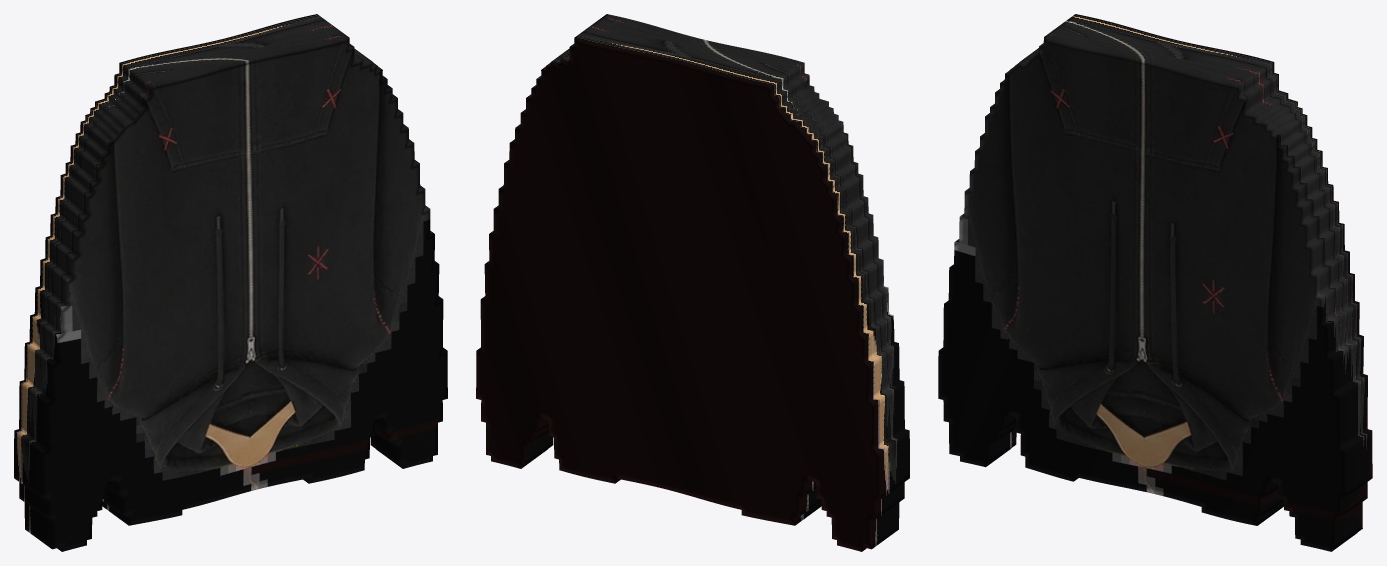
The model's file is offcut-zip-hoodie.glb.
3 renders of one model, left to right at view 1: azimuth 30°, elevation 25°; view 2: azimuth 150°, elevation 25°; view 3: azimuth 330°, elevation 25°, orthographic.
Parts seen in each view (by area): view 1: offcut-zip-hoodie; view 2: offcut-zip-hoodie; view 3: offcut-zip-hoodie.
Boxes of the visible parts, bbox=[...] form: offcut-zip-hoodie: bbox=[14, 14, 447, 551]; offcut-zip-hoodie: bbox=[476, 14, 909, 551]; offcut-zip-hoodie: bbox=[938, 14, 1372, 551].
Size of the model in its own units: 0.72 by 0.756 by 0.104.
Materials: 1 (1 with a texture image).
